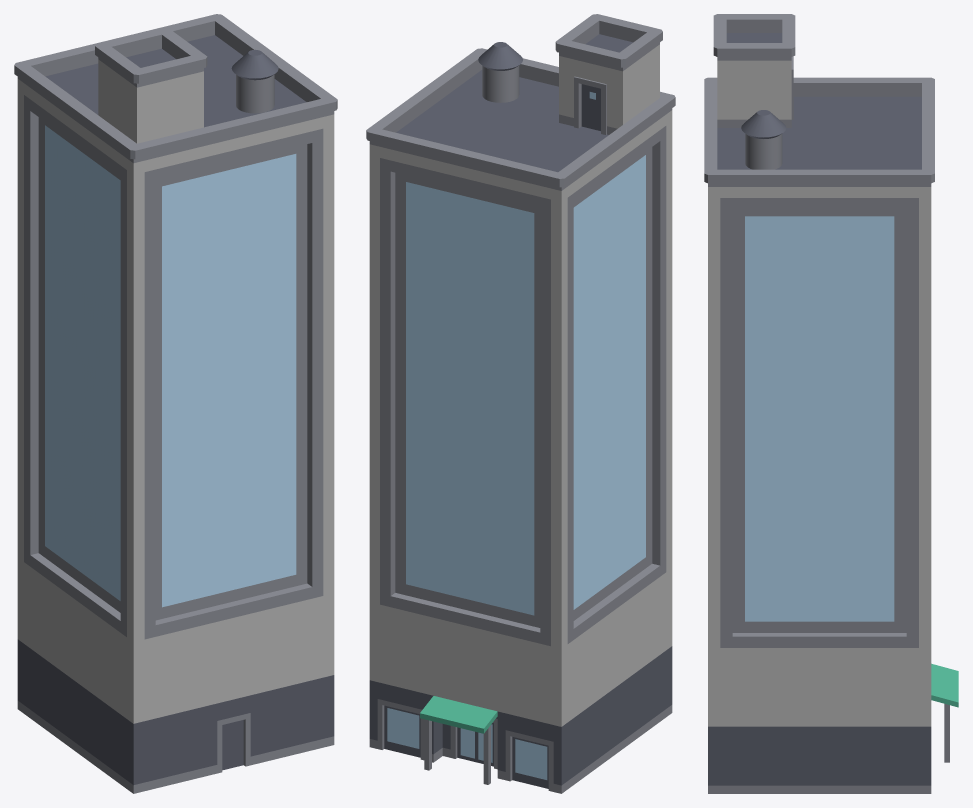
The model's file is glass_skyscraper.glb.
The picture shows the model from 3 angles, left to right: view 1: azimuth 30°, elevation 25°; view 2: azimuth 150°, elevation 25°; view 3: azimuth 270°, elevation 25°; orthographic projection. The views are drawn at different scales.
Visible parts, largest first — view 1: skyscraperC; view 2: skyscraperC; view 3: skyscraperC.
Part boxes in pixels (left/top/right/bottom): skyscraperC: left=14, top=14, right=337, bottom=793; skyscraperC: left=366, top=14, right=675, bottom=793; skyscraperC: left=704, top=14, right=958, bottom=793.
Size of the model in its own units: 1.24 by 4.08 by 1.37.
